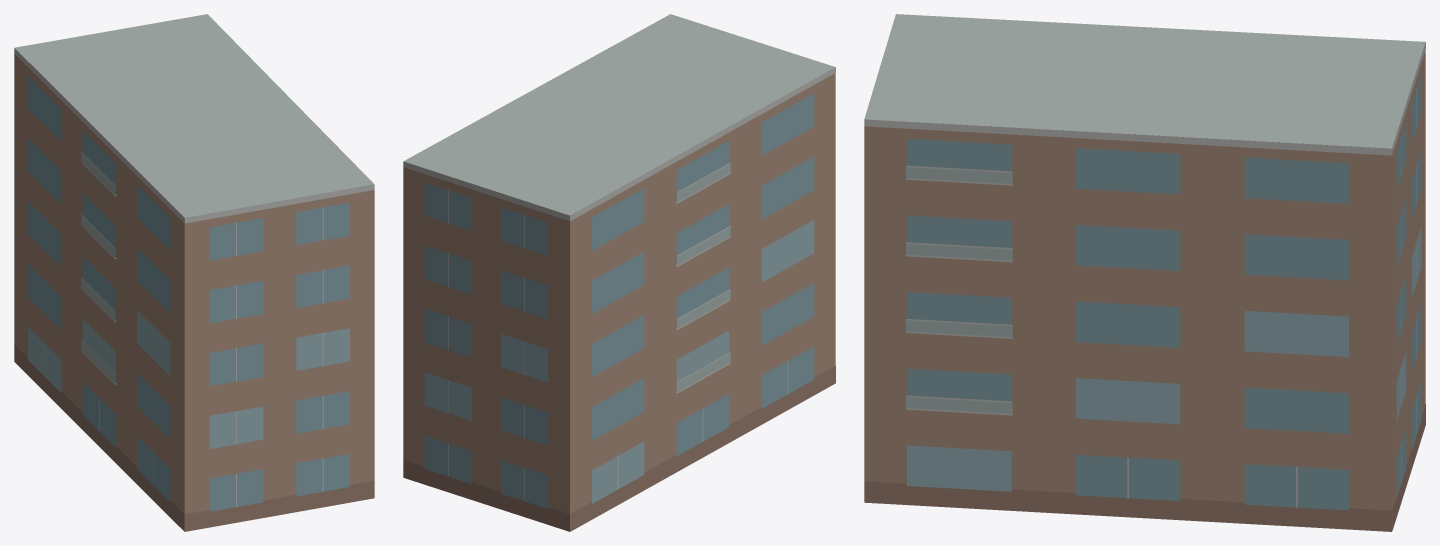
The model's file is survey-upis-32541614.glb.
The picture shows the model from 3 angles, left to right: view 1: azimuth 30°, elevation 25°; view 2: azimuth 150°, elevation 25°; view 3: azimuth 270°, elevation 25°; orthographic projection. The views are drawn at different scales.
Visible parts, largest first — view 1: survey-upis-32541614.tmp; view 2: survey-upis-32541614.tmp; view 3: survey-upis-32541614.tmp.
Part boxes in pixels (x1=…): survey-upis-32541614.tmp: x1=14, y1=14, x2=374, y2=531; survey-upis-32541614.tmp: x1=403, y1=14, x2=835, y2=531; survey-upis-32541614.tmp: x1=864, y1=14, x2=1425, y2=531.
Size of the model in its own units: 10.18 by 13.5 by 17.94.
